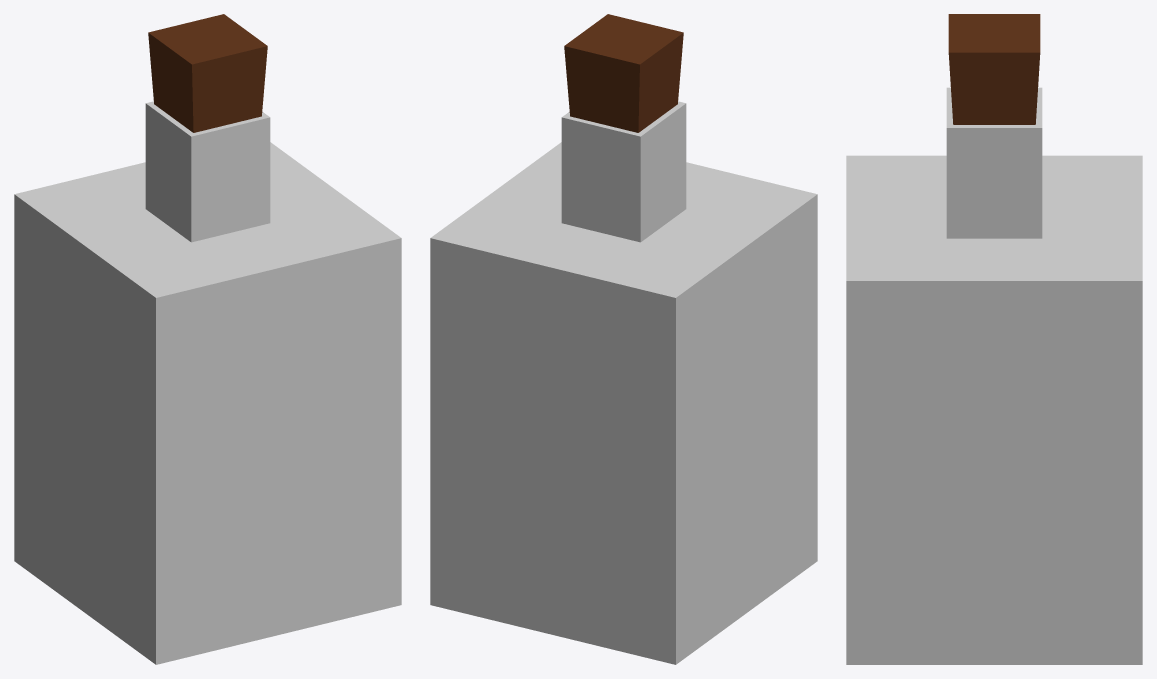
The model's file is potion2.glb.
The picture shows the model from 3 angles, left to right: view 1: azimuth 30°, elevation 25°; view 2: azimuth 150°, elevation 25°; view 3: azimuth 270°, elevation 25°; orthographic projection. The views are drawn at different scales.
Visible parts, largest first — view 1: Cube, Cube.002; view 2: Cube, Cube.002; view 3: Cube, Cube.002.
Part boxes in pixels (x1=…): Cube: x1=14, y1=101, x2=401, y2=664; Cube.002: x1=148, y1=14, x2=267, y2=132; Cube: x1=430, y1=101, x2=817, y2=664; Cube.002: x1=564, y1=14, x2=683, y2=132; Cube: x1=846, y1=87, x2=1142, y2=664; Cube.002: x1=948, y1=14, x2=1040, y2=124.
Size of the model in its own units: 1.29 by 2.73 by 1.29.
